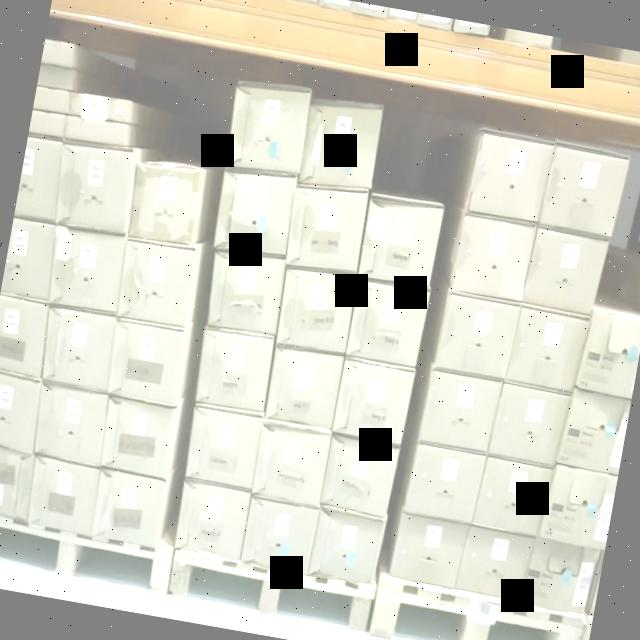box: (465, 132, 551, 228), (451, 213, 536, 310), (540, 145, 626, 240), (360, 193, 444, 290), (526, 227, 607, 321), (54, 149, 142, 235), (182, 402, 266, 492), (222, 88, 309, 174), (296, 103, 381, 191), (346, 281, 428, 369), (508, 308, 588, 398), (284, 192, 368, 276), (214, 173, 294, 261), (278, 270, 358, 358), (332, 360, 414, 444), (263, 346, 342, 432), (253, 421, 332, 507), (208, 254, 290, 336), (98, 396, 180, 478), (104, 322, 186, 403), (127, 160, 205, 243), (441, 295, 518, 379), (197, 332, 274, 416), (21, 454, 101, 534), (321, 434, 397, 518), (42, 305, 118, 388), (118, 243, 194, 325), (47, 233, 126, 310), (30, 386, 109, 462), (422, 370, 498, 448), (494, 385, 570, 463), (522, 540, 598, 618), (392, 512, 466, 592), (176, 479, 250, 558), (91, 472, 170, 545), (407, 443, 483, 518), (478, 458, 550, 536), (306, 514, 382, 587), (244, 497, 318, 570), (460, 524, 530, 600), (62, 116, 130, 150), (72, 94, 130, 122)
